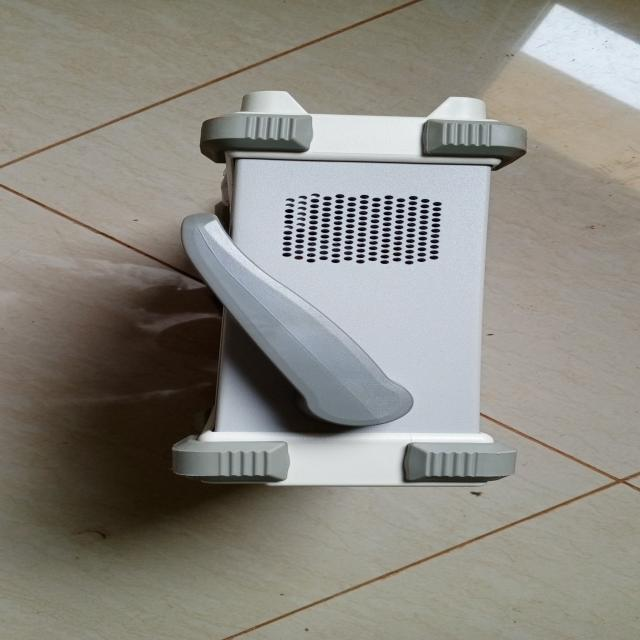Function Arbitrary Wave Form Generator 25Mhz: (136, 86, 574, 492)
